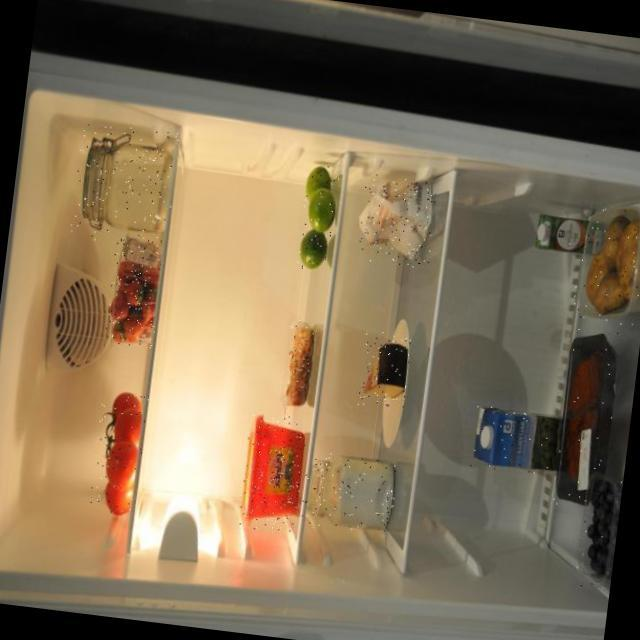Carne vacuno: (551, 326, 623, 509)
Gambas/Langostinos: (283, 323, 315, 407)
Mantequilla: (236, 411, 308, 534)
Queso: (357, 329, 412, 410)
